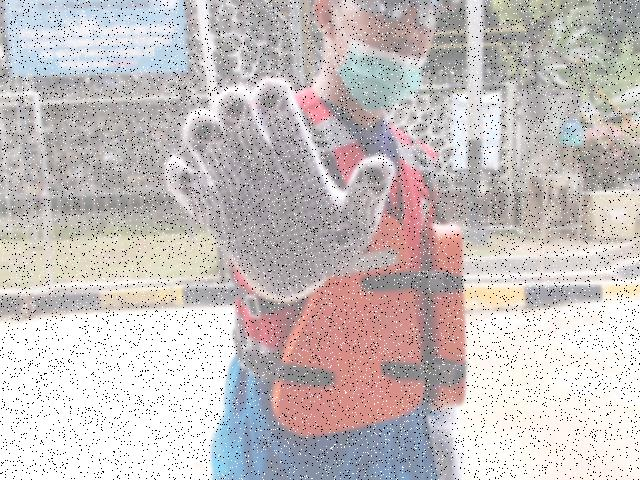glasses: (347, 0, 449, 26)
gloves: (164, 73, 399, 307), (425, 400, 472, 479)
mask: (332, 37, 434, 118)
vest: (265, 208, 471, 438)
